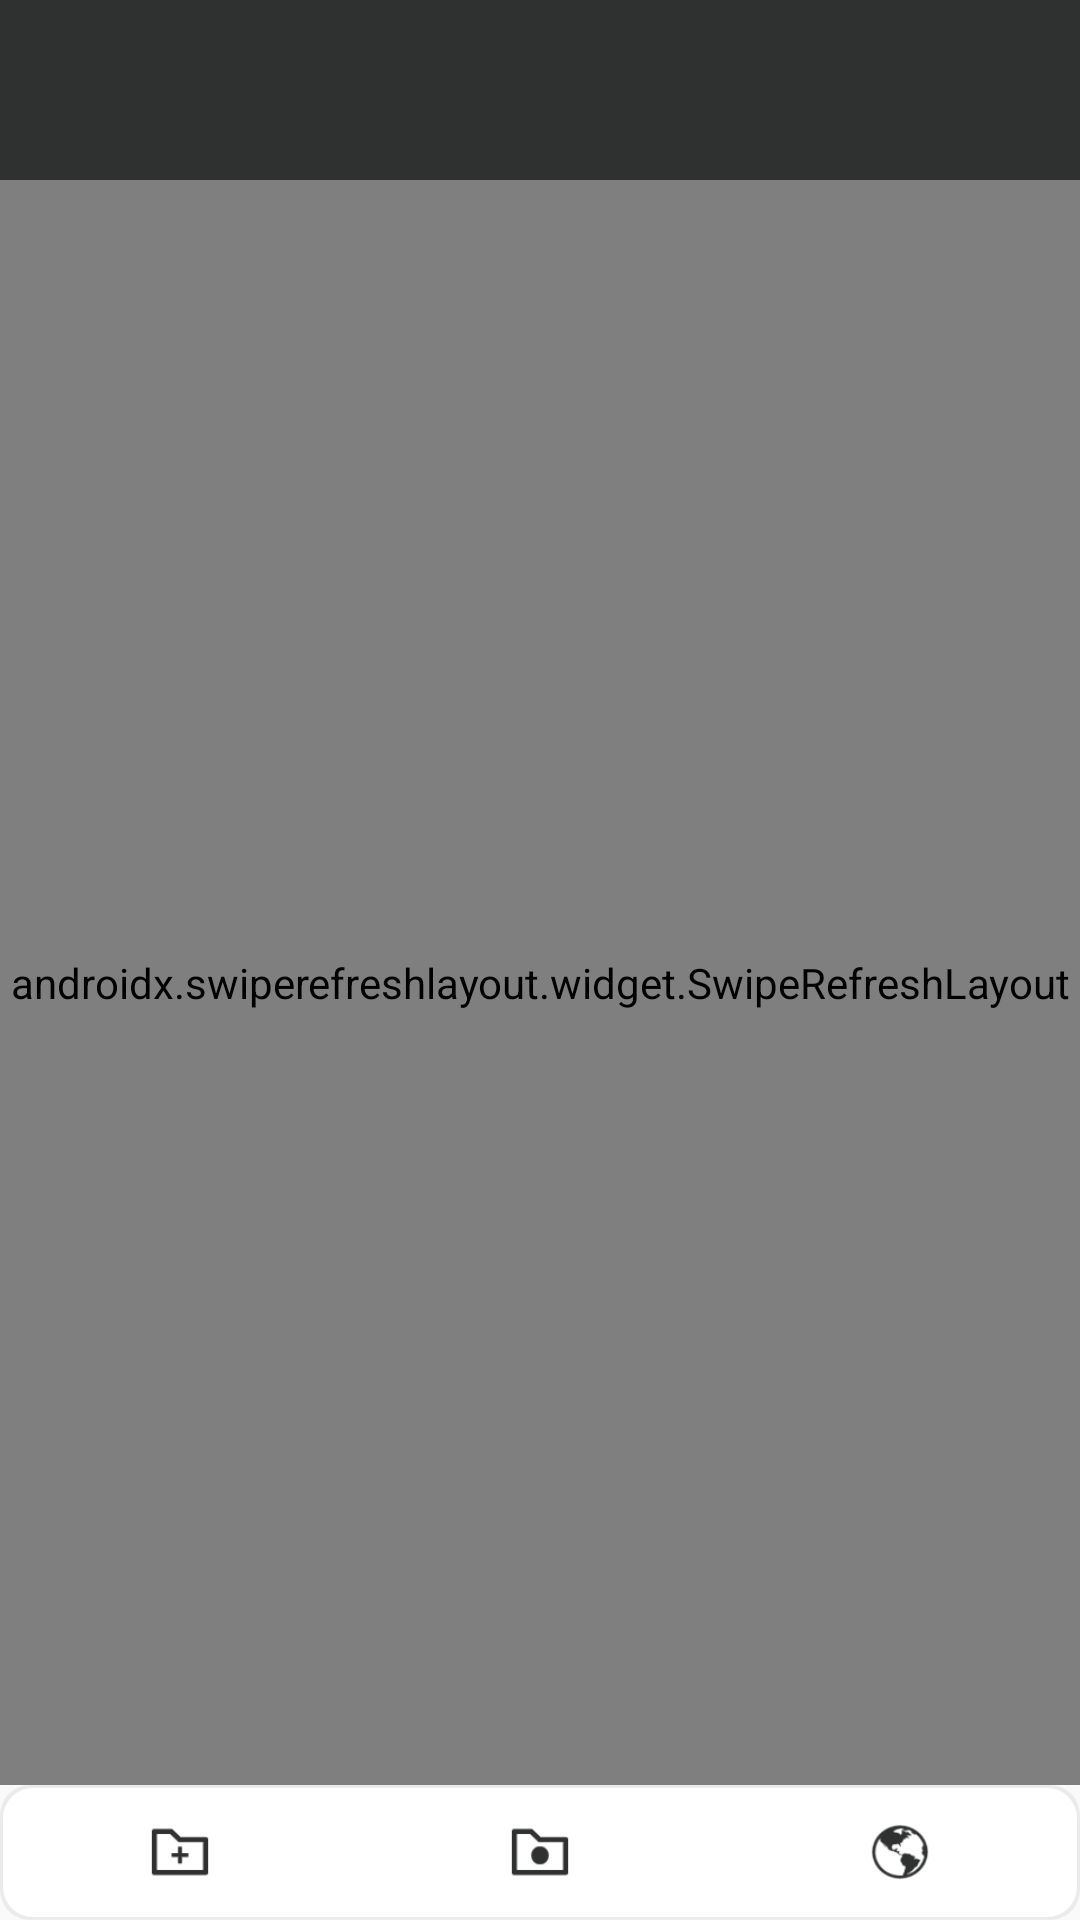

Icons on this 1080 x 1920 Android screen, each with the point to tap as [x,y]:
browser: [900,1852]
create folder: [180,1852]
folder: [540,1852]
